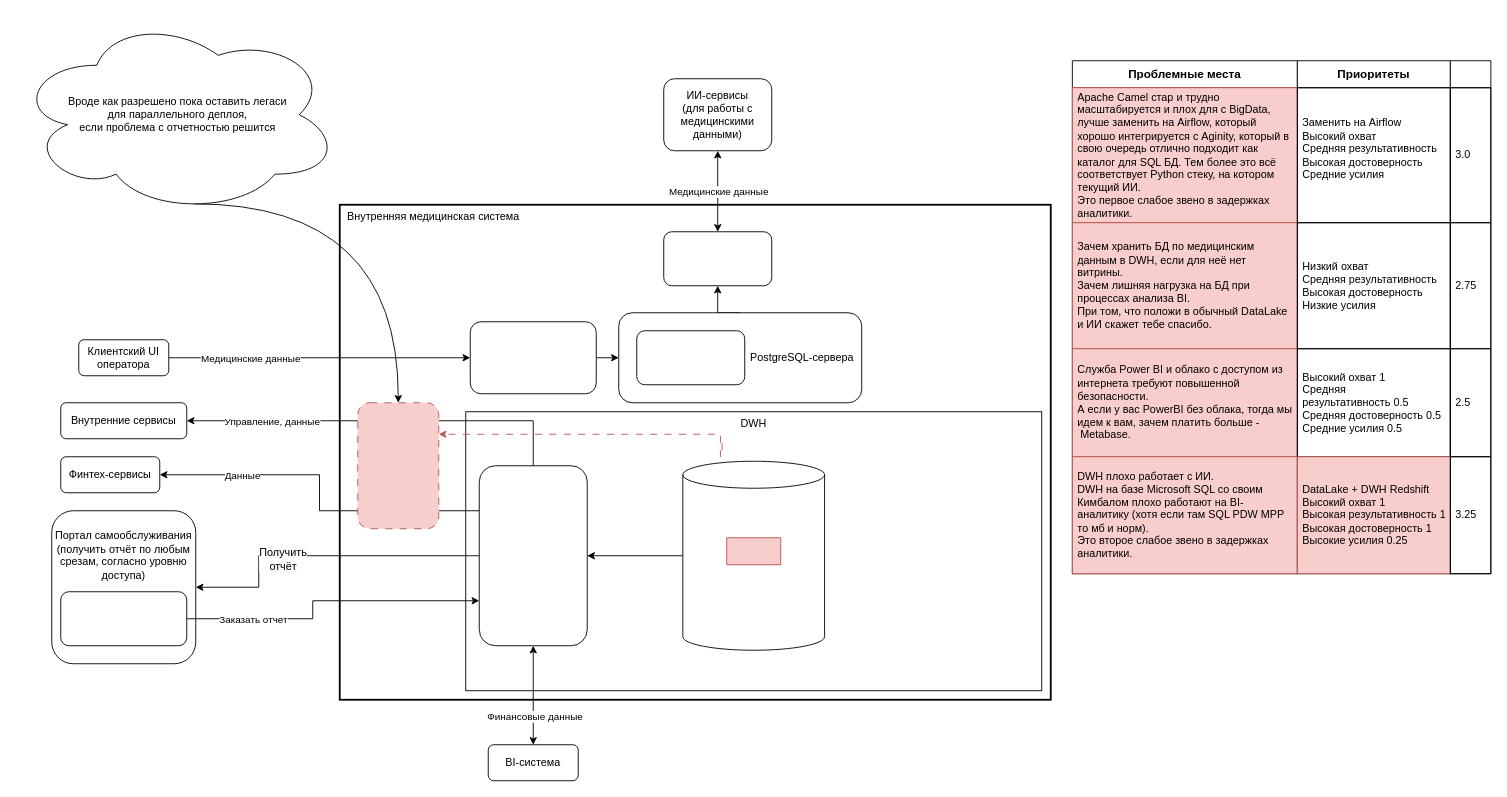
This 1507x797 diagram has some shape labels left out. The shapes that lost their labels are listed below. From the top down, each one's centre as x and y in pixels, then its label:
[717,258]: Airflow + Aginity
[532,357]: Интерфейс на Power Builder для прямой работы операторов в клиниках
[690,357]: Медицинские
[398,465]: "ESB" Apache Camel
[532,555]: Витрины Airflow + Dremio
[753,551]: Kiano
[123,618]: Конструктор отчётов
